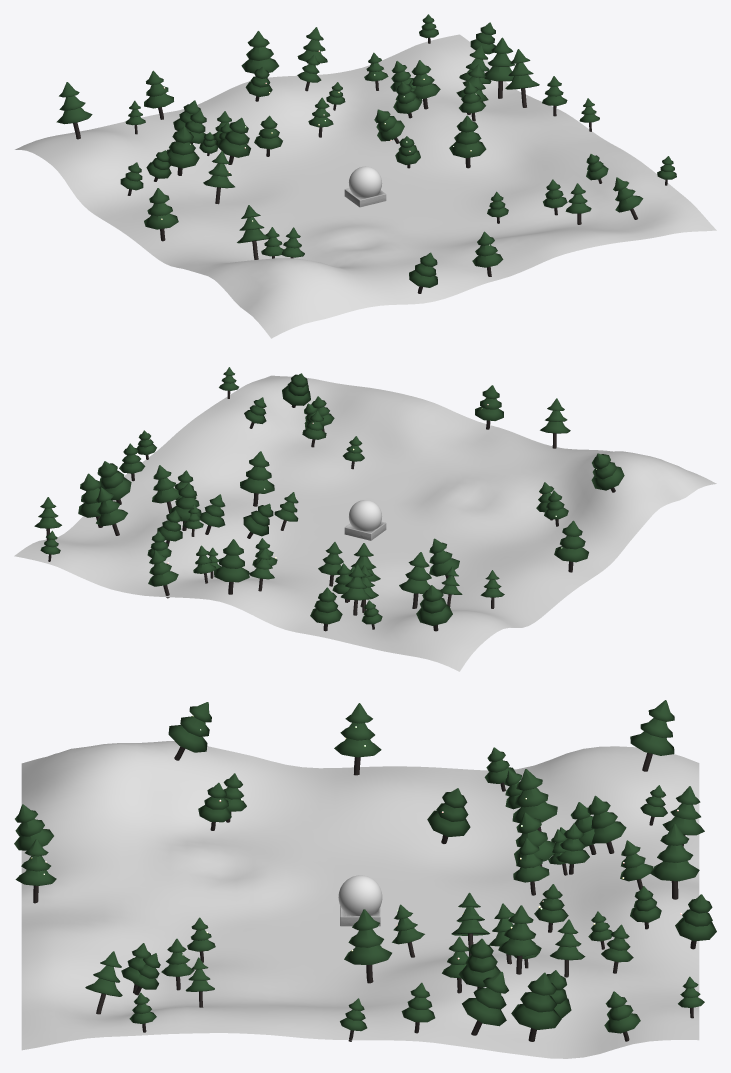
File: snowball.glb
3 views of the same model, one above another, from view 1: azimuth 30°, elevation 25°; view 2: azimuth 150°, elevation 25°; view 3: azimuth 270°, elevation 25° (orthographic). The views are drawn at different scales.
Parts seen in each view (by area): view 1: ground.000, pine01.032, pine01.011, pine01.003, pine01.018, pine01.024, pine01.045, pine01.006, snowball.glass.000, pine01.047, pine01.036, pine01.017 (+12 smaller); view 2: ground.000, pine01.024, pine01.006, pine01.032, pine01.003, pine01.005, pine01.047, pine01.011, snowball.glass.000, pine01.044, pine01.015, pine01.045 (+14 smaller); view 3: ground.000, pine01.045, pine01.024, pine01.047, pine01.006, pine01.032, pine01.003, pine01.005, snowball.glass.000, pine01.010, pine01.011, pine01.036 (+33 smaller).
Boxes of the visible parts, x1=… form: ground.000: x1=15, y1=34, x2=716, y2=338; pine01.032: x1=449, y1=115, x2=486, y2=168; pine01.011: x1=166, y1=126, x2=199, y2=175; pine01.003: x1=144, y1=188, x2=178, y2=241; pine01.018: x1=217, y1=117, x2=250, y2=164; pine01.024: x1=241, y1=31, x2=278, y2=73; pine01.045: x1=484, y1=37, x2=514, y2=98; pine01.006: x1=56, y1=82, x2=92, y2=139; snowball.glass.000: x1=348, y1=166, x2=382, y2=197; pine01.047: x1=505, y1=49, x2=539, y2=107; pine01.036: x1=410, y1=60, x2=440, y2=109; pine01.017: x1=409, y1=252, x2=437, y2=293; ground.000: x1=14, y1=375, x2=716, y2=671; pine01.024: x1=214, y1=539, x2=249, y2=594; pine01.006: x1=416, y1=585, x2=452, y2=631; pine01.032: x1=240, y1=451, x2=274, y2=506; pine01.003: x1=554, y1=520, x2=588, y2=572; pine01.005: x1=591, y1=453, x2=624, y2=492; pine01.047: x1=97, y1=461, x2=131, y2=504; pine01.011: x1=399, y1=552, x2=431, y2=608; snowball.glass.000: x1=349, y1=500, x2=381, y2=530; pine01.044: x1=95, y1=487, x2=127, y2=535; pine01.015: x1=310, y1=587, x2=342, y2=631; pine01.045: x1=78, y1=473, x2=102, y2=527; ground.000: x1=21, y1=741, x2=699, y2=1058; pine01.045: x1=511, y1=972, x2=561, y2=1041; pine01.024: x1=650, y1=824, x2=699, y2=899; pine01.047: x1=462, y1=971, x2=508, y2=1035; pine01.006: x1=630, y1=700, x2=674, y2=771; pine01.032: x1=344, y1=909, x2=391, y2=983; pine01.003: x1=334, y1=703, x2=381, y2=775; pine01.005: x1=168, y1=702, x2=211, y2=760; snowball.glass.000: x1=338, y1=875, x2=382, y2=915; pine01.010: x1=427, y1=788, x2=470, y2=843; pine01.011: x1=512, y1=769, x2=557, y2=831; pine01.036: x1=498, y1=905, x2=541, y2=974.
Bounding box in the file's own units: 2.04 × 0.3577 × 2.08.
10 materials, 2 textured.
